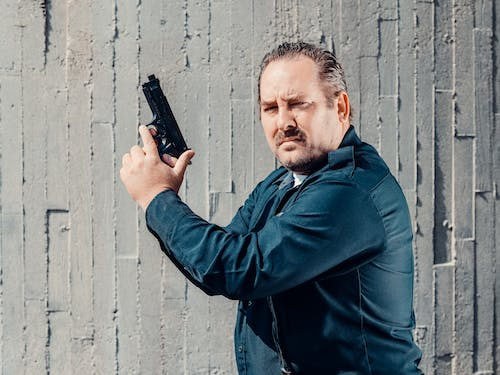gun: (139, 70, 194, 172)
